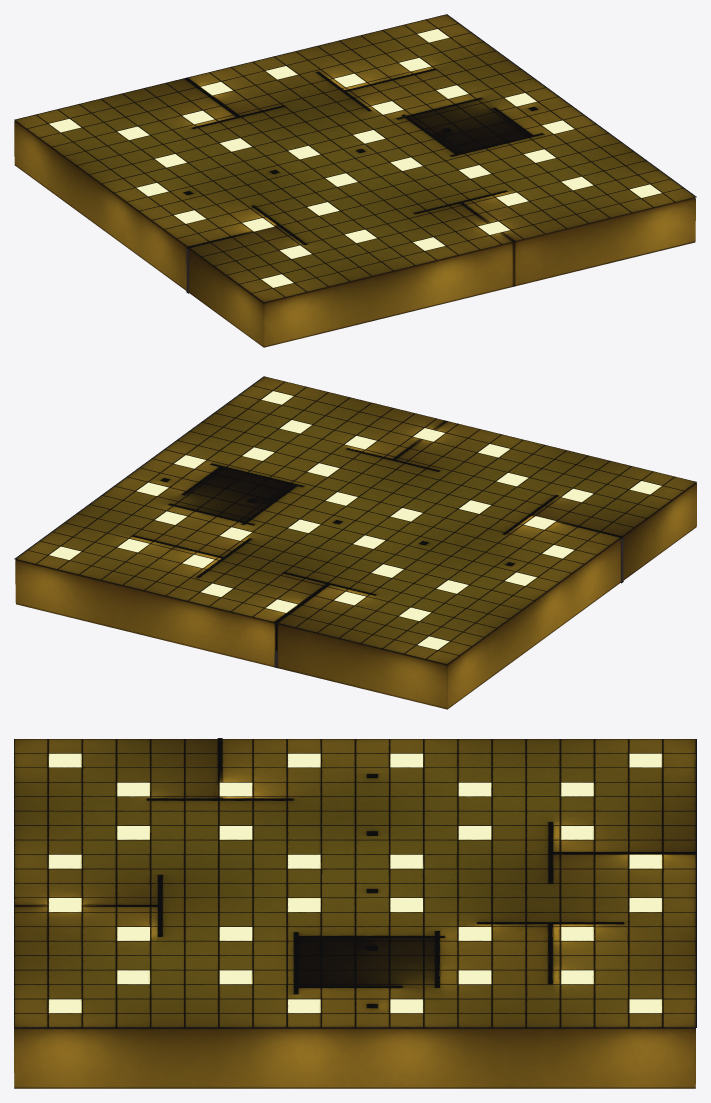
3 views of the same model, one above another, from view 1: azimuth 30°, elevation 25°; view 2: azimuth 150°, elevation 25°; view 3: azimuth 270°, elevation 25° (orthographic). The views are drawn at different scales.
Parts seen in each view (by area): view 1: Ceiling.001_0, OuterWalls.002_2; view 2: Ceiling.001_0, OuterWalls.002_2; view 3: Ceiling.001_0, OuterWalls.002_2, Carpet.001_1.
Boxes of the visible parts, box(x1,y1,x2,y2) form: Ceiling.001_0: box(14, 14, 696, 302); OuterWalls.002_2: box(14, 19, 695, 347); Ceiling.001_0: box(14, 376, 696, 664); OuterWalls.002_2: box(15, 376, 696, 709); Ceiling.001_0: box(14, 739, 696, 1027); OuterWalls.002_2: box(14, 738, 695, 1088); Carpet.001_1: box(14, 1073, 695, 1088).
Bounding box in the file's own units: 26.81 × 2.67 × 26.71.
